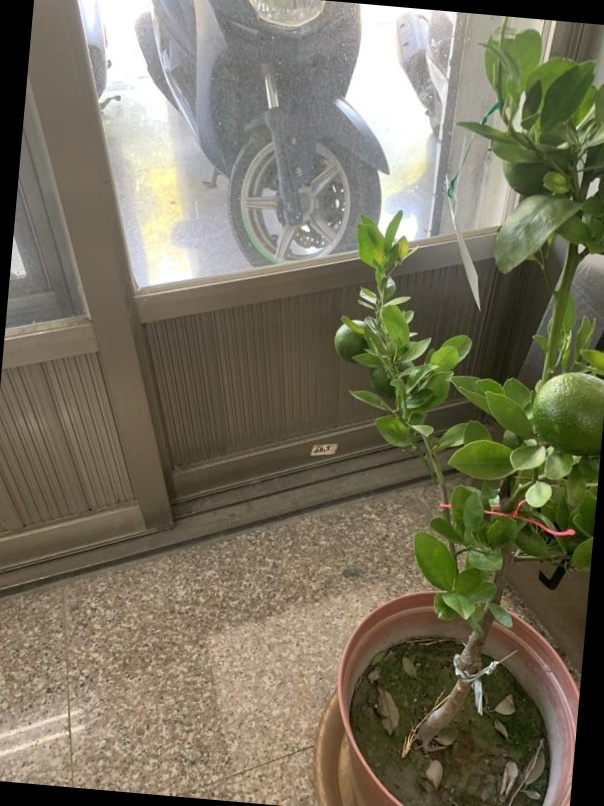Tangerine: (530, 369, 602, 460)
